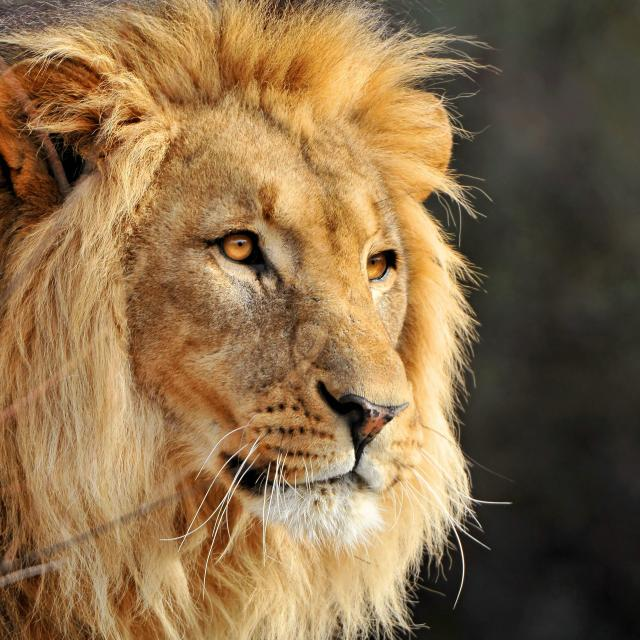lion: (0, 0, 474, 640)
